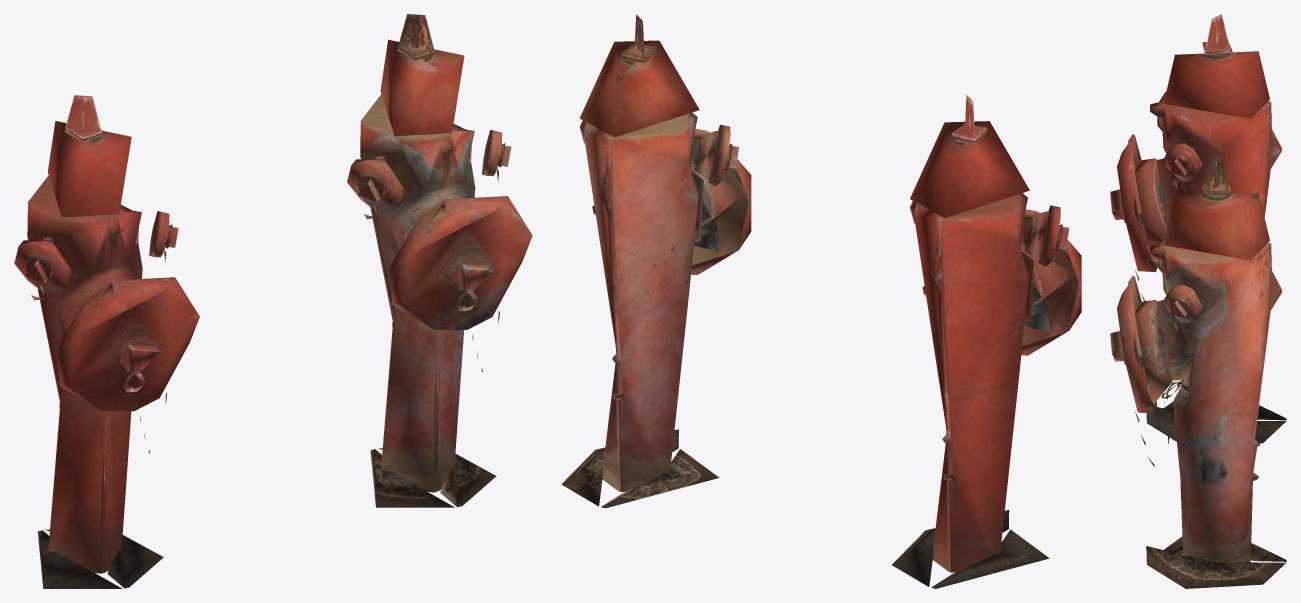
The model's file is fire_hydrant.glb.
The picture shows the model from 3 angles, left to right: view 1: azimuth 30°, elevation 25°; view 2: azimuth 150°, elevation 25°; view 3: azimuth 270°, elevation 25°; orthographic projection. The views are drawn at different scales.
Parts seen in each view (by area): view 1: fire_hydrant, fire_hydrant_aged, fire_hydrant_cap_01, fire_hydrant_cap_01_aged, fire_hydrant_cap_03, fire_hydrant_cap_03_aged, fire_hydrant_cap_02, fire_hydrant_cap_02_aged; view 2: fire_hydrant, fire_hydrant_aged, fire_hydrant_cap_01_aged, fire_hydrant_cap_01, fire_hydrant_cap_03_aged, fire_hydrant_cap_03; view 3: fire_hydrant_aged, fire_hydrant, fire_hydrant_cap_01_aged, fire_hydrant_cap_01, fire_hydrant_cap_02_aged, fire_hydrant_cap_02, fire_hydrant_chain_aged.
Boxes of the visible parts, x1=… form: fire_hydrant: x1=27, y1=95, x2=163, y2=588; fire_hydrant_aged: x1=360, y1=14, x2=496, y2=507; fire_hydrant_cap_01: x1=56, y1=277, x2=199, y2=411; fire_hydrant_cap_01_aged: x1=388, y1=196, x2=532, y2=329; fire_hydrant_cap_03: x1=14, y1=240, x2=73, y2=293; fire_hydrant_cap_03_aged: x1=347, y1=158, x2=406, y2=212; fire_hydrant_cap_02: x1=149, y1=211, x2=178, y2=257; fire_hydrant_cap_02_aged: x1=482, y1=130, x2=511, y2=176; fire_hydrant: x1=892, y1=95, x2=1073, y2=588; fire_hydrant_aged: x1=561, y1=14, x2=743, y2=508; fire_hydrant_cap_01_aged: x1=691, y1=129, x2=751, y2=274; fire_hydrant_cap_01: x1=1021, y1=209, x2=1081, y2=355; fire_hydrant_cap_03_aged: x1=708, y1=124, x2=739, y2=186; fire_hydrant_cap_03: x1=1038, y1=205, x2=1069, y2=266; fire_hydrant_aged: x1=1135, y1=155, x2=1286, y2=588; fire_hydrant: x1=1135, y1=14, x2=1286, y2=443; fire_hydrant_cap_01_aged: x1=1110, y1=275, x2=1157, y2=413; fire_hydrant_cap_01: x1=1110, y1=134, x2=1157, y2=272; fire_hydrant_cap_02_aged: x1=1164, y1=284, x2=1203, y2=322; fire_hydrant_cap_02: x1=1164, y1=142, x2=1203, y2=181; fire_hydrant_chain_aged: x1=1135, y1=319, x2=1190, y2=466.
Size of the model in its own units: 0.8729 by 0.7992 by 0.3163.
Materials: 2 (2 with a texture image).
